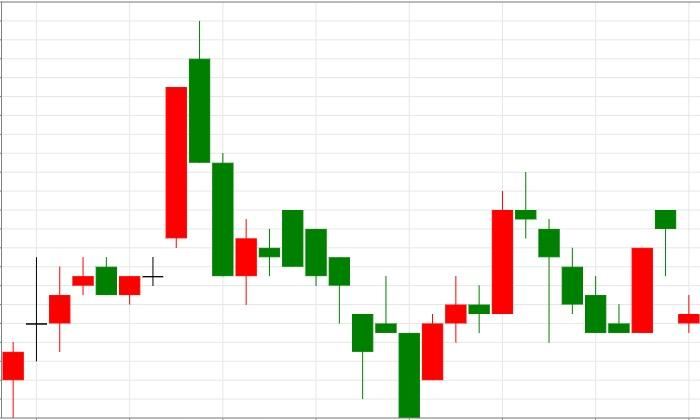bullish_engulfing_rise: (515, 172, 653, 342)
